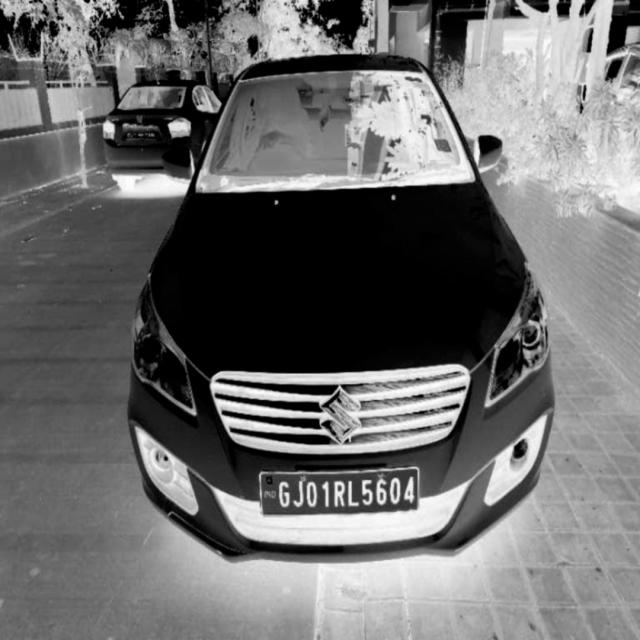0: (389, 476, 402, 506), (307, 481, 318, 510)
1: (321, 479, 331, 508)
4: (403, 474, 416, 506)
5: (361, 477, 374, 507)
6: (375, 477, 388, 505)
G: (278, 480, 291, 510)
IND: (261, 474, 277, 504)
Indian_registered: (260, 468, 419, 515)
J: (294, 478, 306, 511)
L: (347, 478, 361, 510)
R: (332, 479, 347, 509)
